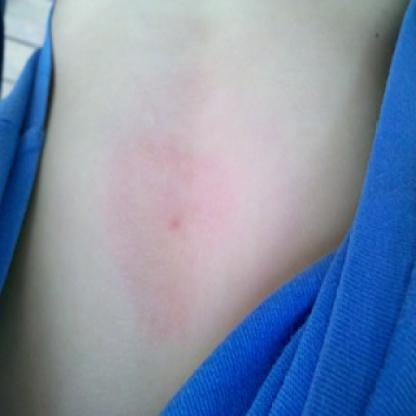Tick: (104, 130, 230, 346)
